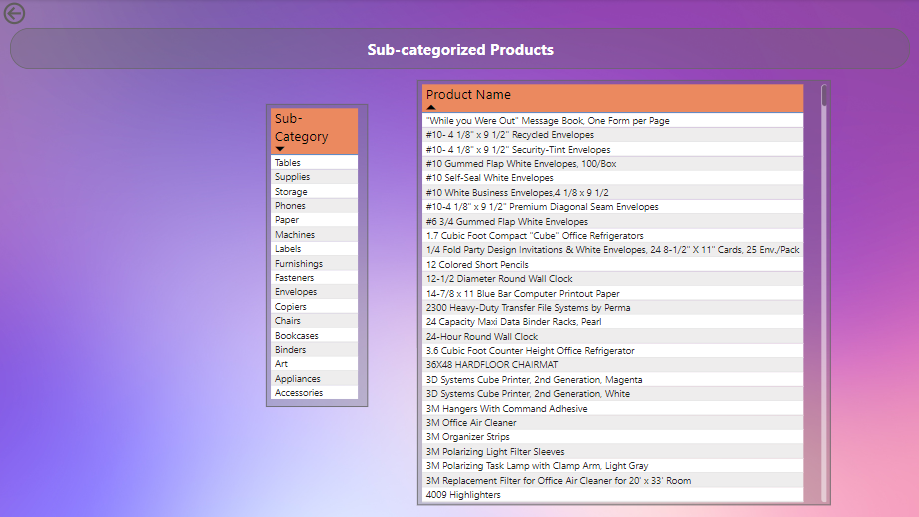

The page's visual inventory and layout, read from the dashboard file:
{"tool":"powerbi","page":{"name":"Products","canvas":[1280,720],"ordinal":2},"visuals":[{"type":"textbox","box":[13.9,40.3,1251,57],"z":0},{"type":"actionButton","box":[0,0,100,40],"z":1000},{"type":"tableEx","fields":{"Values":["Orders.Sub-Category"]},"box":[369.7,145.9,141.8,421.2],"z":2000},{"type":"tableEx","fields":{"Values":["Orders.Product Name"]},"box":[579.6,112.6,575.4,590.7],"z":3000}]}

Visuals, with their boxes in screenshot pixels (x1, y1, x2, y2), scaled from the page's 1280x720 canvas onto the 919x517 screenshot:
textbox: {"x1": 10, "y1": 29, "x2": 908, "y2": 70}
actionButton: {"x1": 0, "y1": 0, "x2": 72, "y2": 29}
tableEx - Orders.Sub-Category: {"x1": 265, "y1": 105, "x2": 367, "y2": 407}
tableEx - Orders.Product Name: {"x1": 416, "y1": 81, "x2": 829, "y2": 505}
